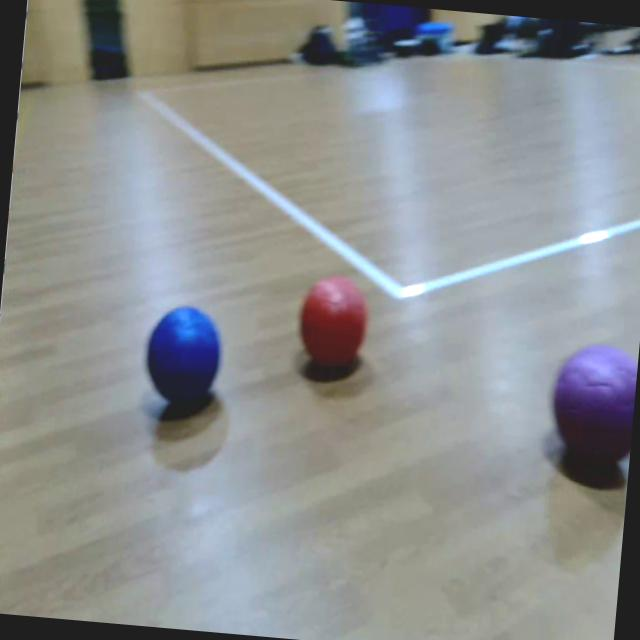blue_ball: (144, 302, 226, 406)
purple_ball: (548, 338, 640, 468)
red_ball: (295, 272, 370, 371)
